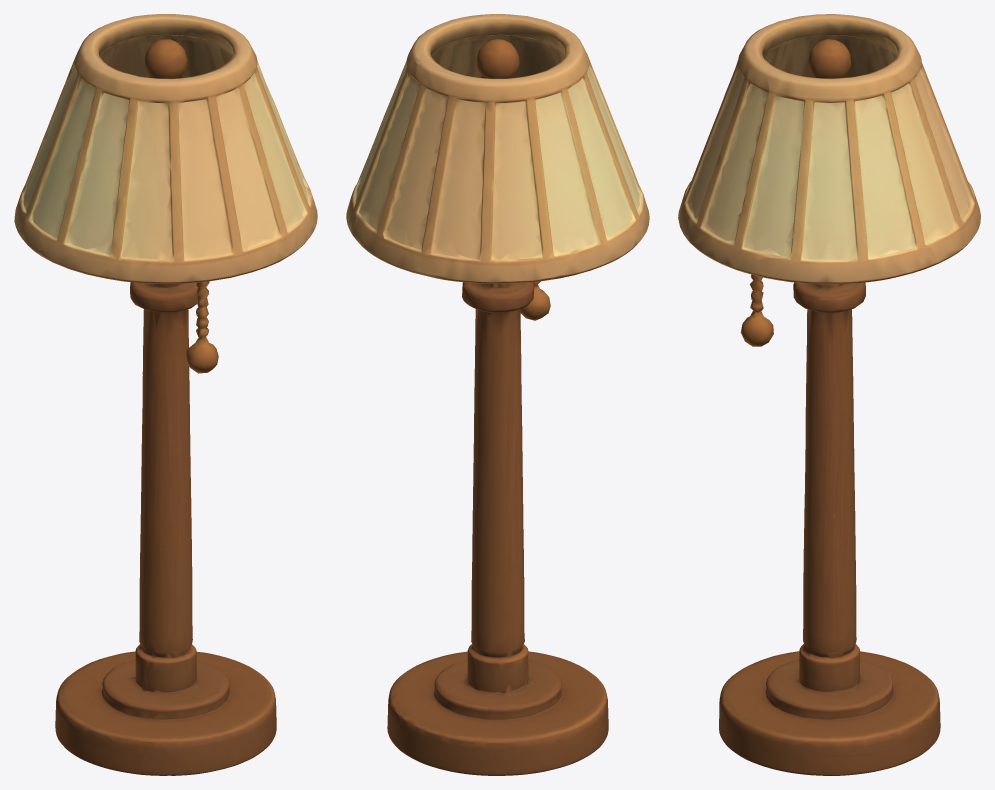
The model's file is floor-lamp.glb.
The picture shows the model from 3 angles, left to right: view 1: azimuth 30°, elevation 25°; view 2: azimuth 150°, elevation 25°; view 3: azimuth 270°, elevation 25°; orthographic projection.
Visible parts, largest first — view 1: tripo_node_4add61e6-add0-496c-b8f8-7e71f58e3121; view 2: tripo_node_4add61e6-add0-496c-b8f8-7e71f58e3121; view 3: tripo_node_4add61e6-add0-496c-b8f8-7e71f58e3121.
Part boxes in pixels (x1=…): tripo_node_4add61e6-add0-496c-b8f8-7e71f58e3121: x1=14, y1=14, x2=317, y2=775; tripo_node_4add61e6-add0-496c-b8f8-7e71f58e3121: x1=346, y1=14, x2=649, y2=775; tripo_node_4add61e6-add0-496c-b8f8-7e71f58e3121: x1=678, y1=14, x2=980, y2=775.
Size of the model in its own units: 0.4009 by 1 by 0.3983.
1 material, 1 textured.
